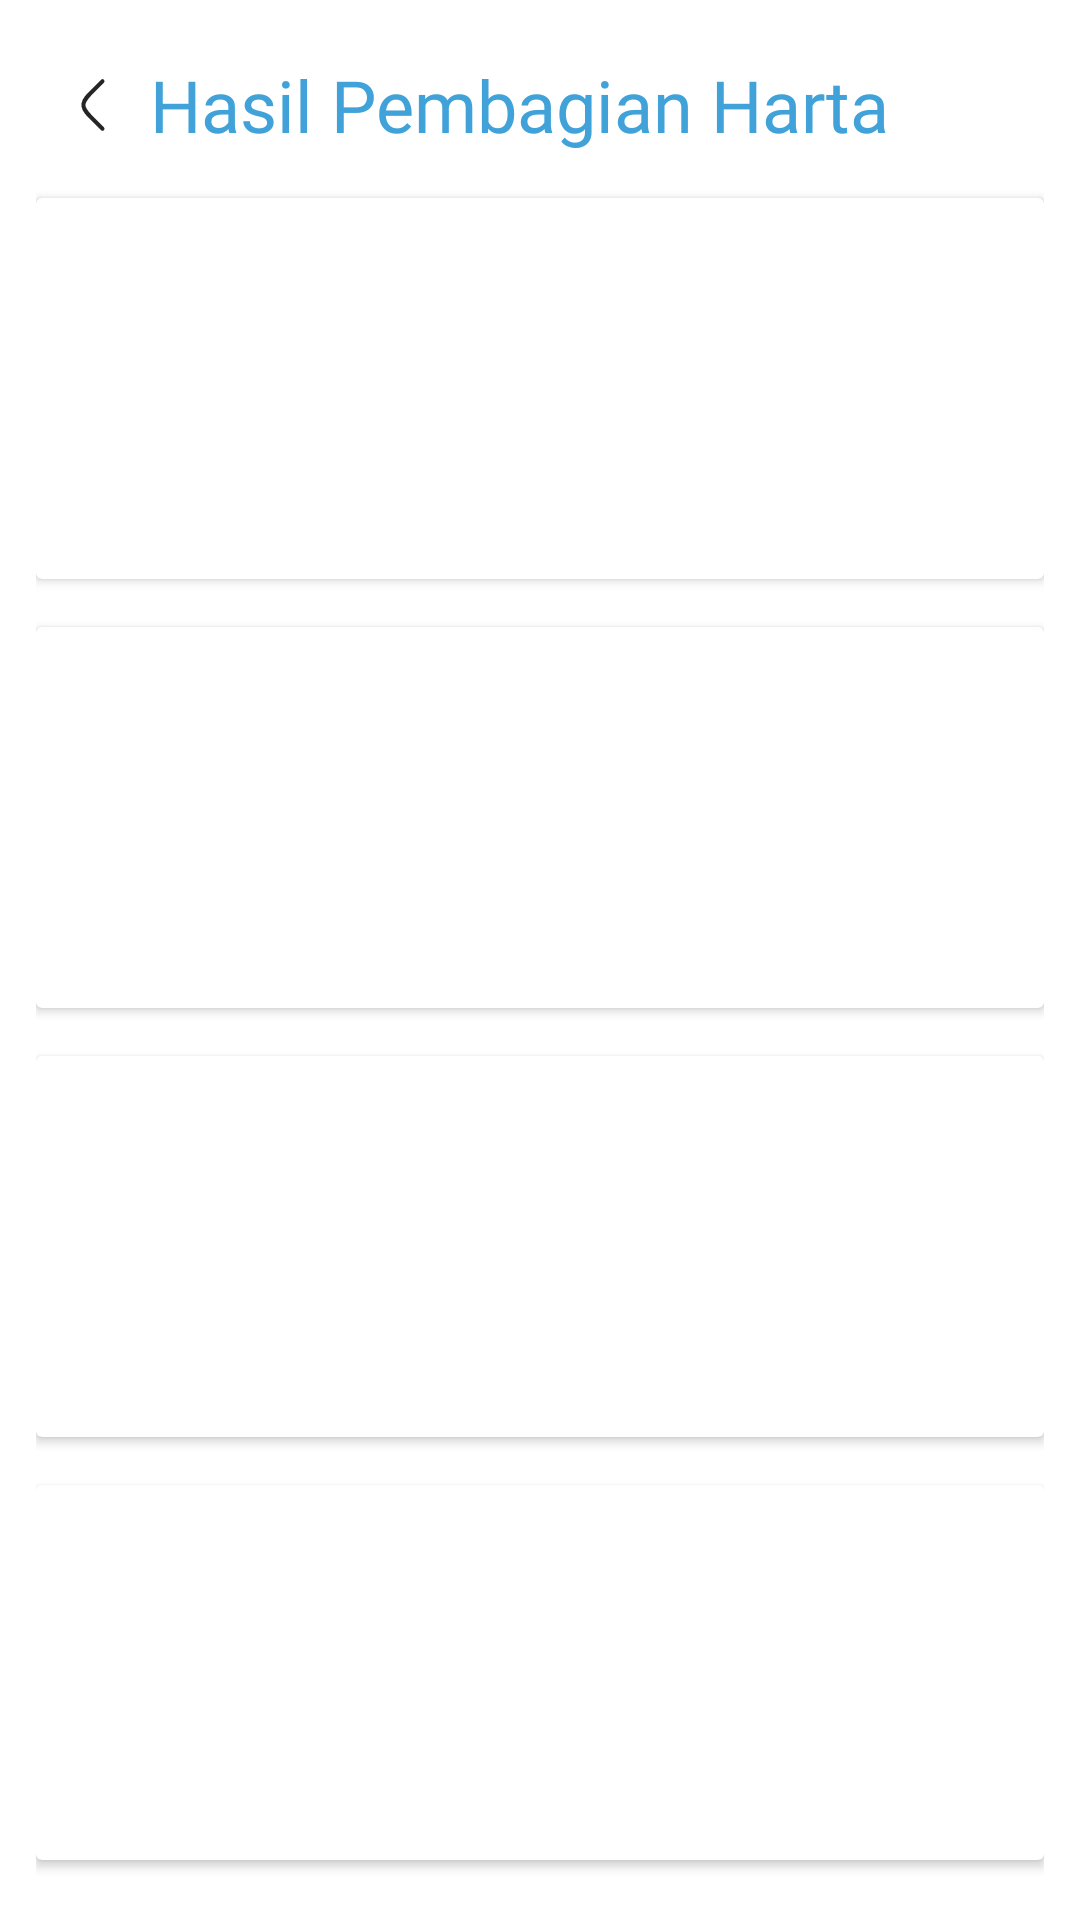

Icon click points for this 1080×1920 phone screenshot, format (x=x, y=y):
left: (x=93, y=105)
